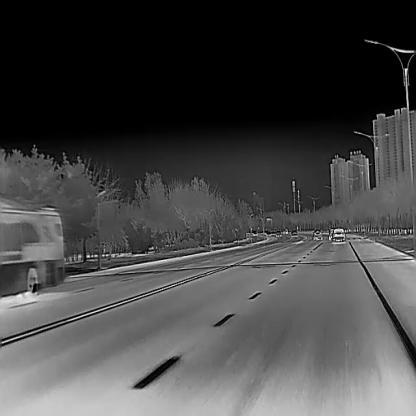car: (0, 198, 64, 298), (332, 227, 345, 242), (313, 228, 323, 240), (291, 229, 298, 237)
